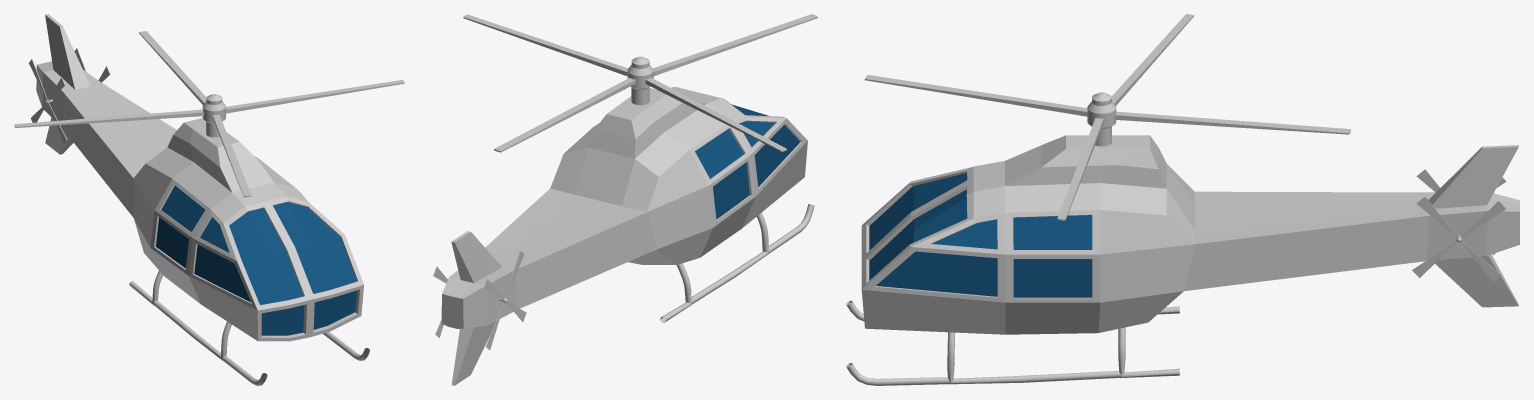
The model's file is helicopter_animation_000025.obj.
3 renders of one model, left to right at view 1: azimuth 30°, elevation 25°; view 2: azimuth 150°, elevation 25°; view 3: azimuth 270°, elevation 25°, orthographic. The views are drawn at different scales.
Visible parts, largest first — view 1: Helicopter.007_Cylinder.008, Helicopter.001_Cylinder.001, Helicopter.004_Cylinder.005; view 2: Helicopter.007_Cylinder.008, Helicopter.001_Cylinder.001, Helicopter.004_Cylinder.005; view 3: Helicopter.007_Cylinder.008, Helicopter.001_Cylinder.001, Helicopter.003_Cylinder.004.
Part boxes in pixels (x1,y1,x2,y2): Helicopter.007_Cylinder.008: (36, 14, 369, 385); Helicopter.001_Cylinder.001: (14, 31, 404, 197); Helicopter.004_Cylinder.005: (29, 59, 67, 144); Helicopter.007_Cylinder.008: (441, 87, 814, 385); Helicopter.001_Cylinder.001: (463, 14, 817, 152); Helicopter.004_Cylinder.005: (483, 251, 526, 349); Helicopter.007_Cylinder.008: (846, 135, 1519, 385); Helicopter.001_Cylinder.001: (864, 14, 1350, 220); Helicopter.003_Cylinder.004: (1412, 196, 1506, 282).
Bounding box in the file's own units: 5.4 × 3.2 × 7.49.
